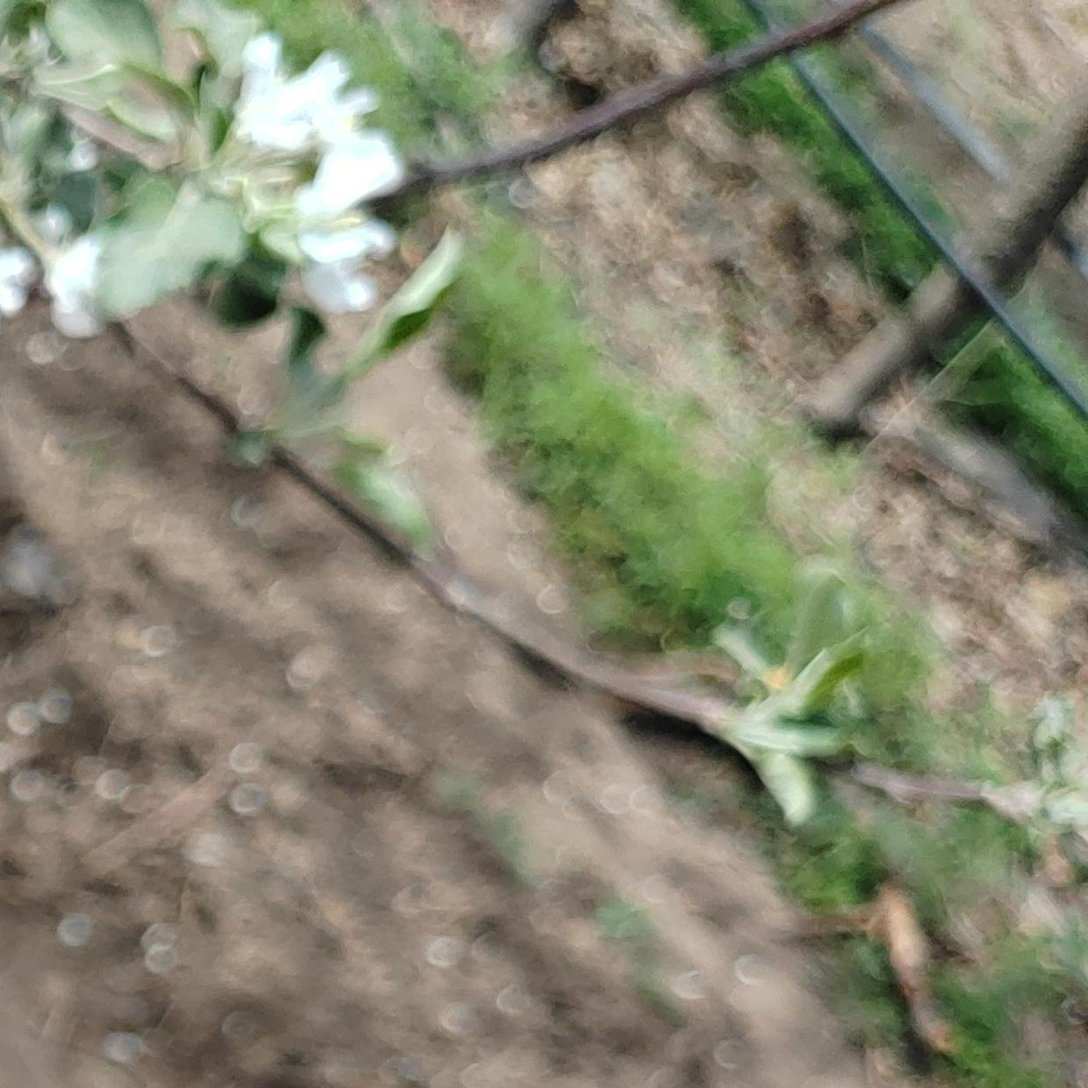apple_flower: (0, 118, 405, 330)
